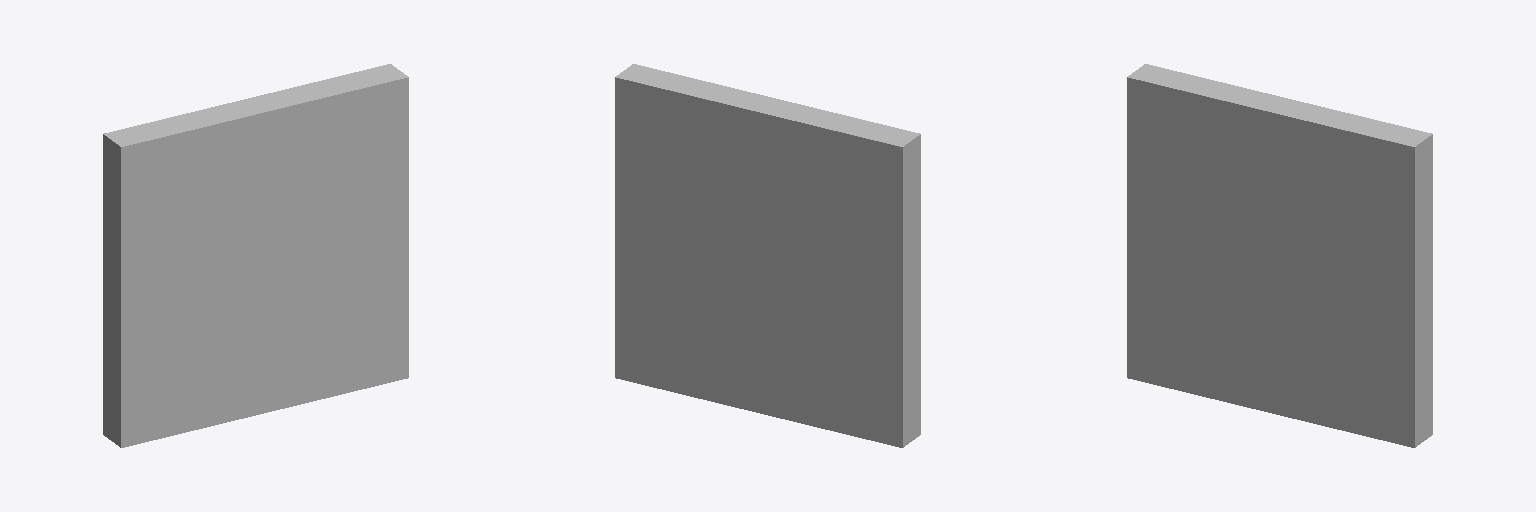
File: Wall.obj
3 renders of one model, left to right at view 1: azimuth 30°, elevation 25°; view 2: azimuth 150°, elevation 25°; view 3: azimuth 330°, elevation 25°, orthographic.
Visible parts, largest first — view 1: object 1; view 2: object 1; view 3: object 1.
Boxes of the visible parts, <box> form: object 1: <box>103,64,408,447</box>; object 1: <box>615,64,920,447</box>; object 1: <box>1127,64,1432,447</box>.
Bounding box in the file's own units: 0.9 × 0.9 × 0.1.